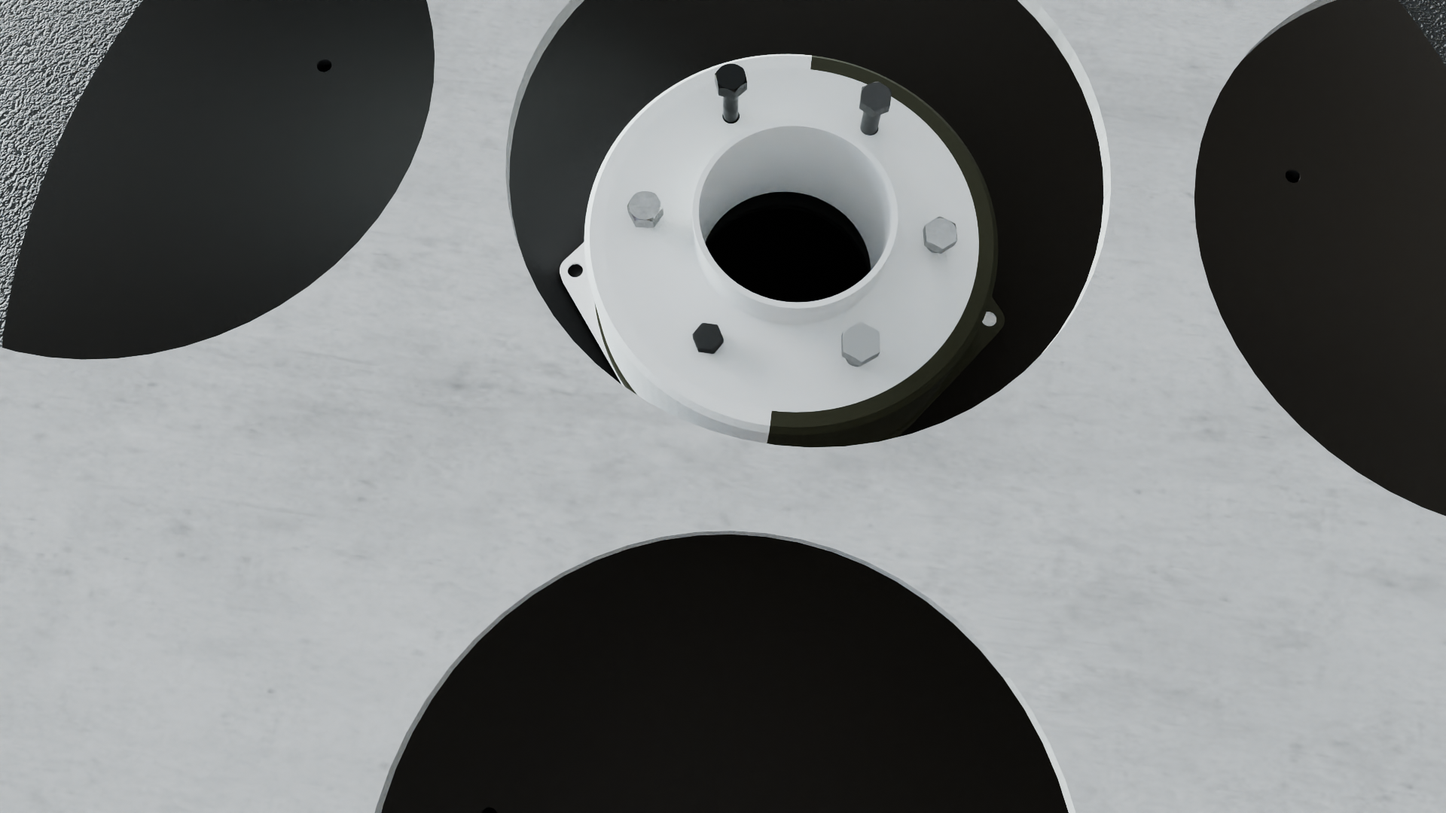bolt: (843, 322, 880, 362), (627, 191, 663, 222), (925, 216, 957, 248), (715, 63, 747, 93), (860, 81, 892, 111), (692, 323, 724, 351)
